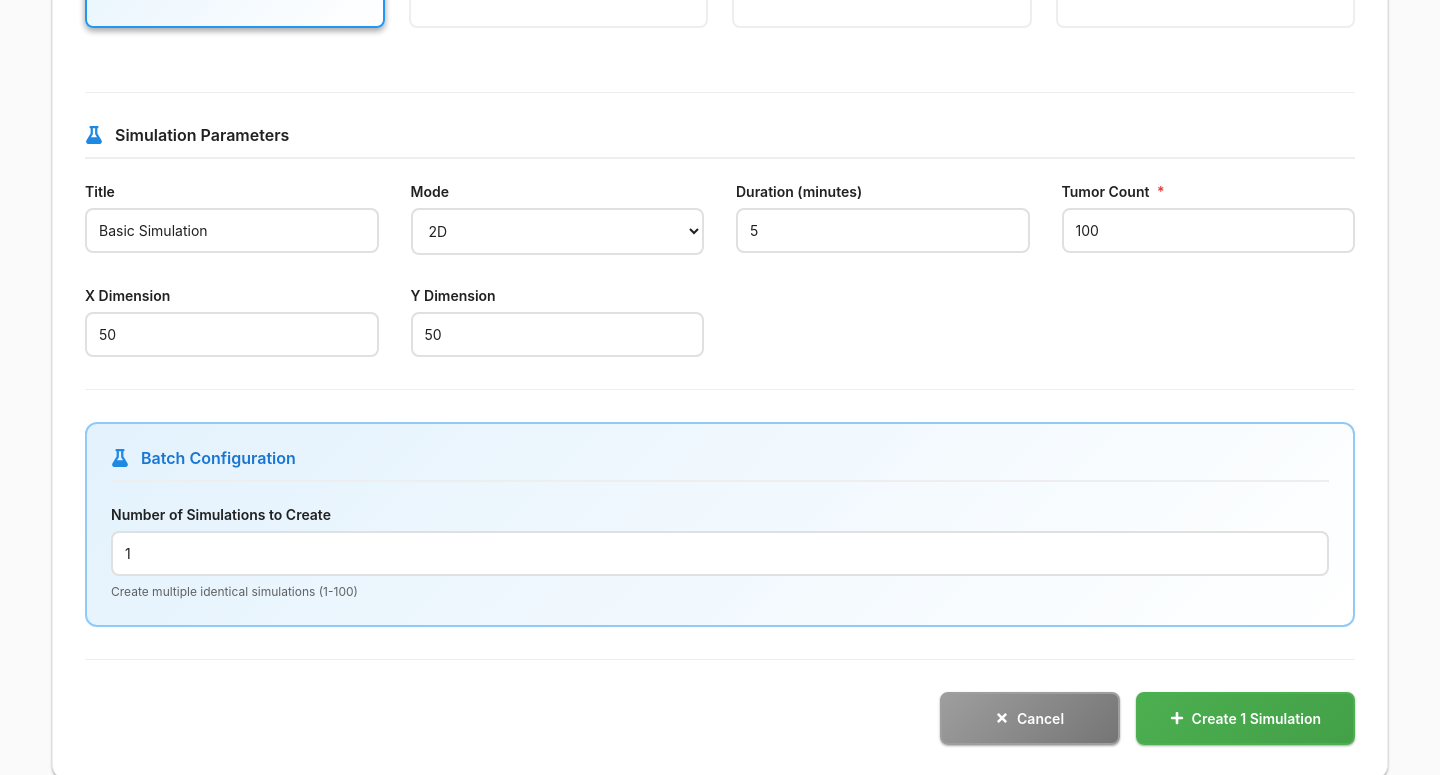
Test case: CreateSimulation Component › navigates to dashboard after successful creation
(page scrolled)
Click the button "Create 1 Simulation".
click(1245, 718)  # box [1136,692,1355,745]
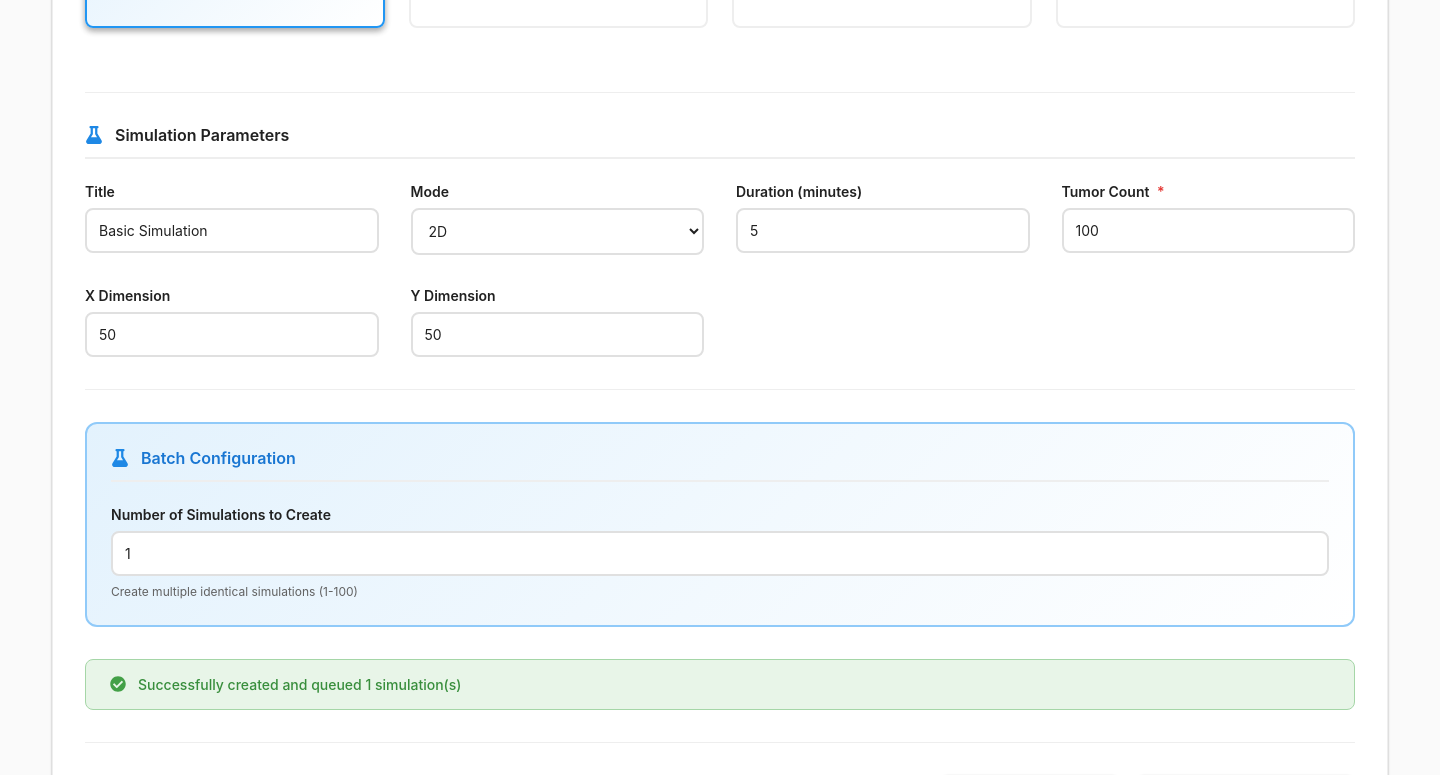
Expected: the text "Successfully created and queued 1 simulation(s)" is shown, [138,676,462,693]
